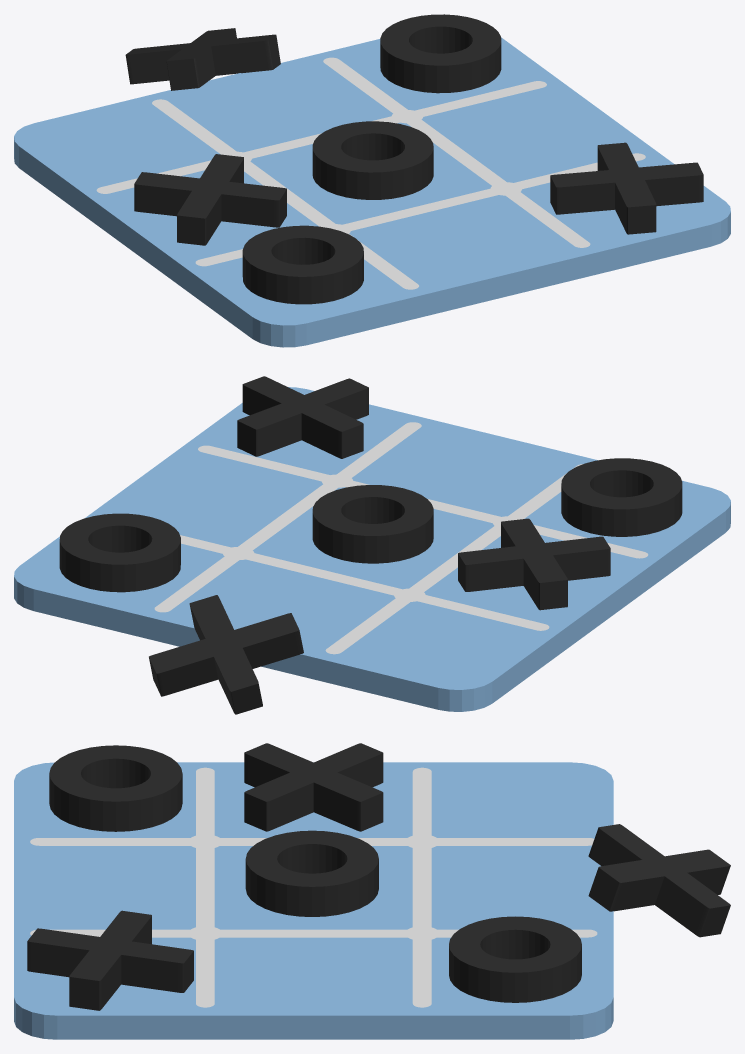
File: tic-tac-toe-model-CdAmF_7Y.glb
The picture shows the model from 3 angles, top to bottom: view 1: azimuth 30°, elevation 25°; view 2: azimuth 150°, elevation 25°; view 3: azimuth 270°, elevation 25°; orthographic projection. The views are drawn at different scales.
Parts seen in each view (by area): view 1: Cube_0, Curve.001_8, Cylinder_1, Cylinder.002_5, Cylinder.001_4, Cube.001_2, Cube.002_3, Cube.003_6; view 2: Cube_0, Curve.001_8, Cube.003_6, Cube.002_3, Cylinder_1, Cylinder.001_4, Cylinder.002_5, Cube.001_2; view 3: Cube_0, Curve.001_8, Cube.001_2, Cylinder.002_5, Cylinder_1, Cube.003_6, Cylinder.001_4, Cube.002_3.
Part boxes in pixels (x1,y1,x2,y2): Cube_0: (14,37,730,347); Curve.001_8: (96,57,645,289); Cylinder_1: (312,121,433,199); Cylinder.002_5: (242,225,363,304); Cylinder.001_4: (380,14,501,93); Cube.001_2: (134,154,286,245); Cube.002_3: (550,142,703,234); Cube.003_6: (125,28,280,90); Cube_0: (14,387,730,711); Curve.001_8: (154,422,648,654); Cube.003_6: (149,595,303,714); Cube.002_3: (237,376,368,458); Cylinder_1: (312,485,433,563); Cylinder.001_4: (59,513,180,592); Cylinder.002_5: (561,458,682,536); Cube.001_2: (458,518,610,610); Cube_0: (14,762,613,1039); Curve.001_8: (30,767,597,1007); Cube.001_2: (244,743,383,831); Cylinder.002_5: (49,745,182,831); Cylinder_1: (245,830,378,916); Cube.003_6: (588,824,730,937); Cylinder.001_4: (449,916,581,1002); Cube.002_3: (27,910,193,1010).
Size of the model in its own units: 1.37 by 0.1688 by 1.64.
